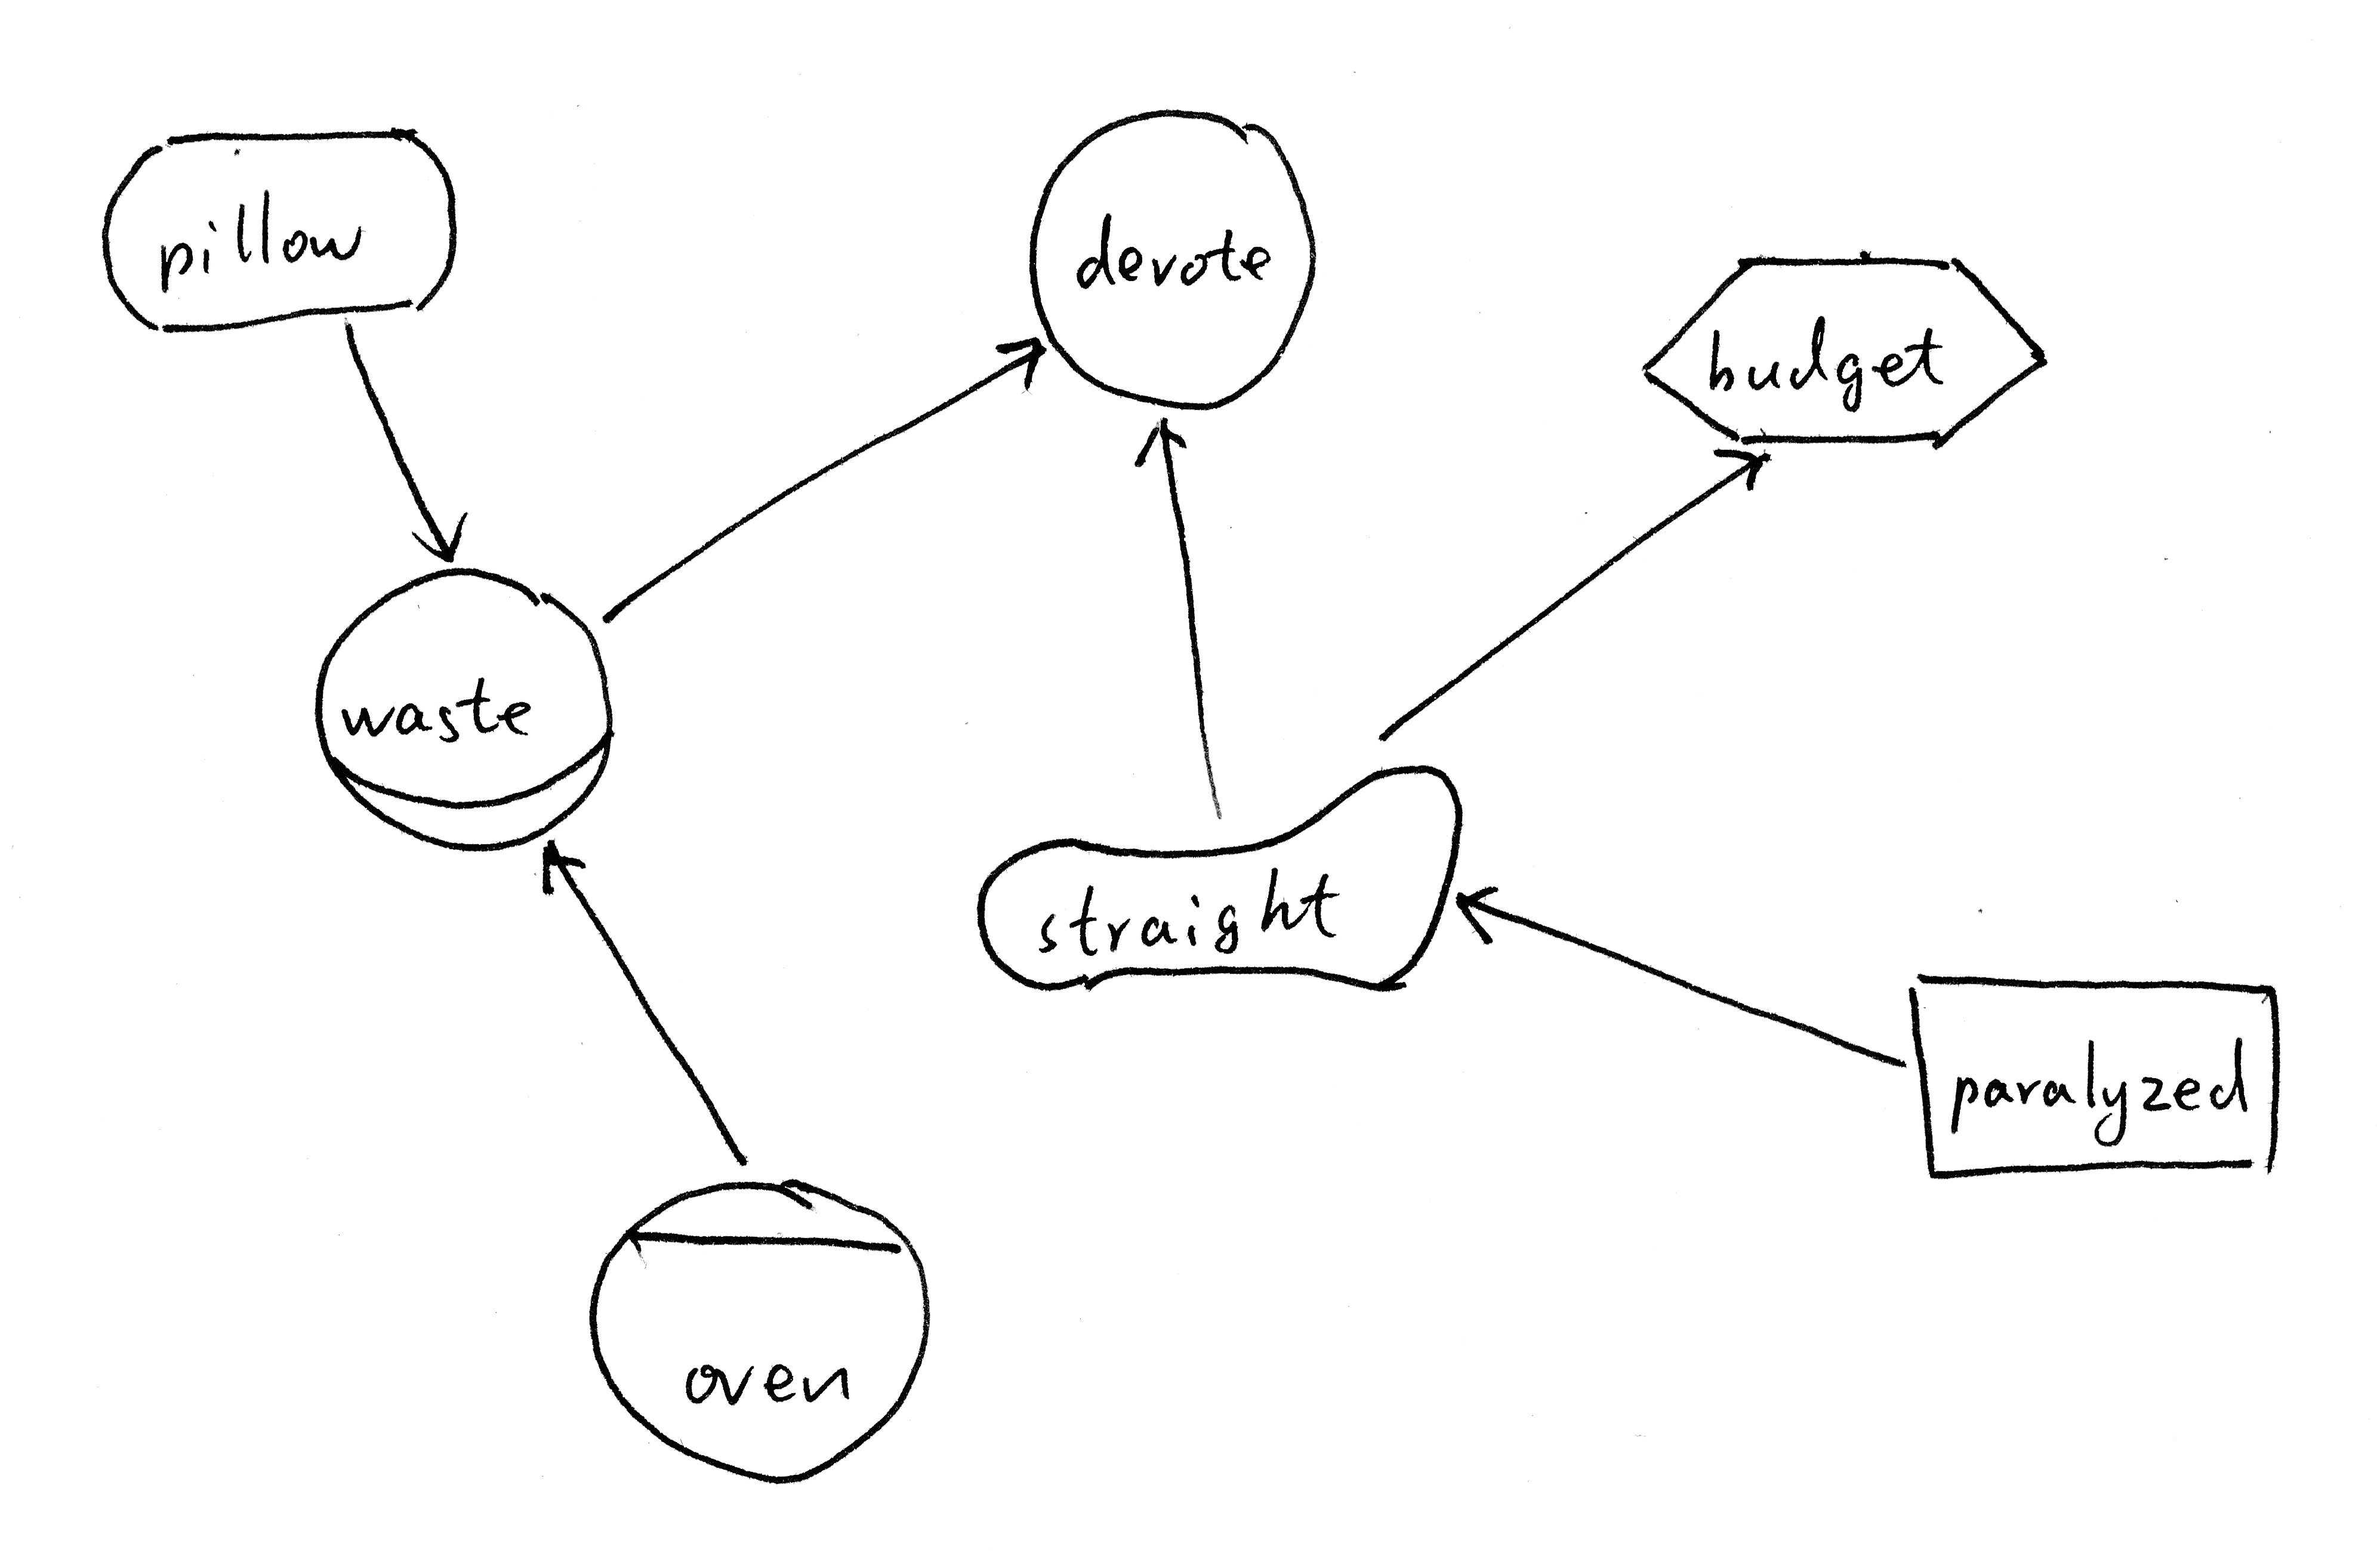actor: (1010, 94, 1337, 425)
agent: (569, 1158, 952, 1498)
arrow: (506, 824, 611, 912), (1127, 406, 1211, 495), (1442, 864, 1519, 961), (392, 502, 492, 576), (973, 322, 1055, 401), (1689, 436, 1785, 497)
goal: (79, 112, 481, 348)
quality: (956, 745, 1484, 1015)
resource: (1883, 955, 2307, 1197)
role: (298, 551, 634, 864)
task: (1628, 236, 2071, 469)
